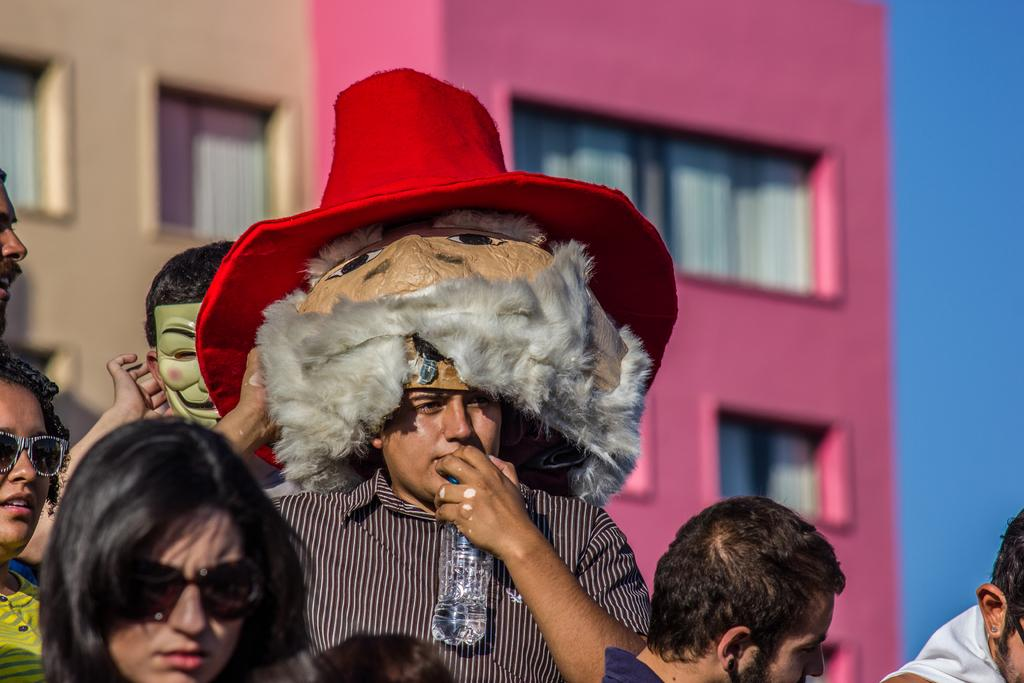Hat: (192, 66, 675, 475)
